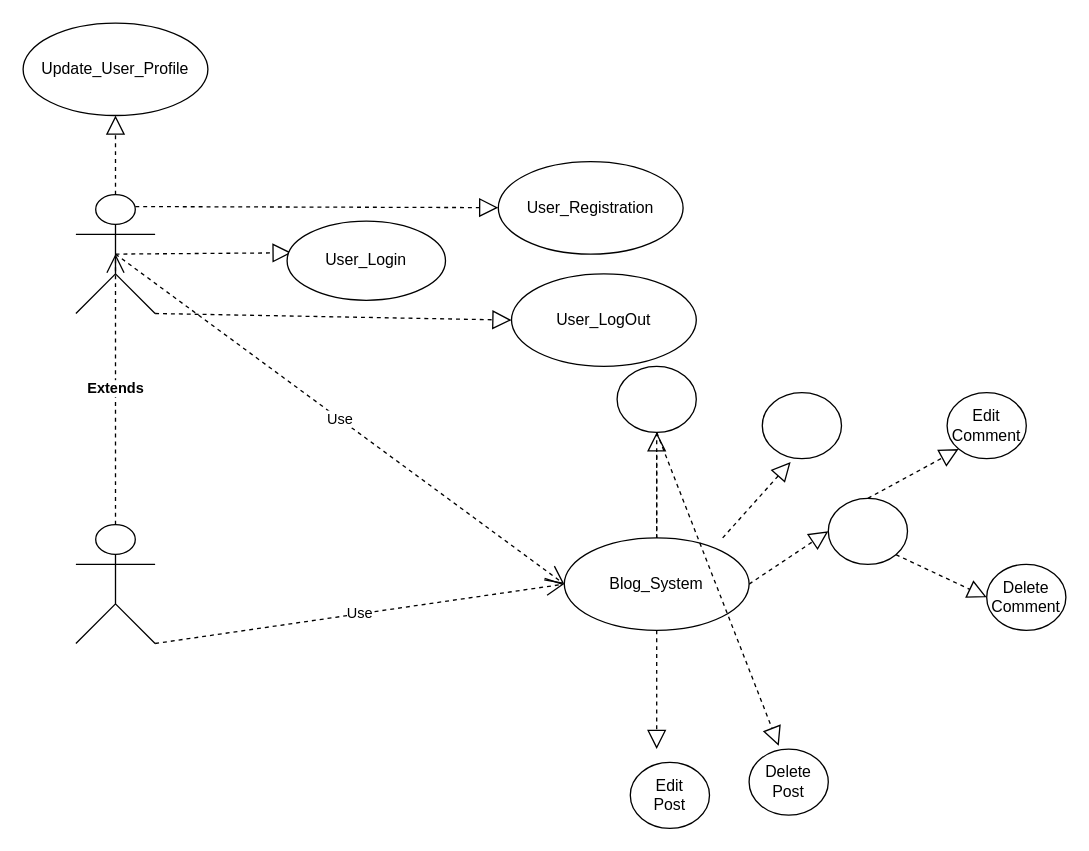
This 1089x851 diagram has some shape labels left out. The shapes that lost their labels are listed below. From the top down, each one's centre as x and y in pixels, then its label:
At [115,253]: "User".
At [656,398]: "Create Post".
At [801,425]: "View".
At [867,530]: "Create Comment".
At [115,583]: "Blogger".
